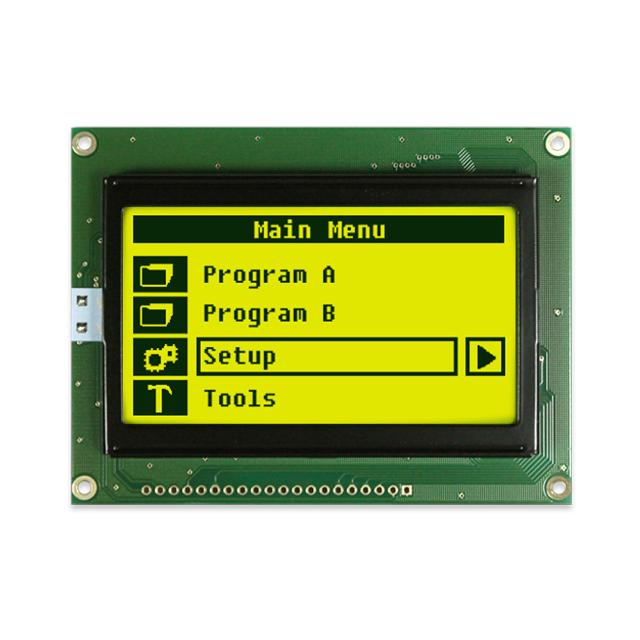Display: (60, 114, 588, 516)
